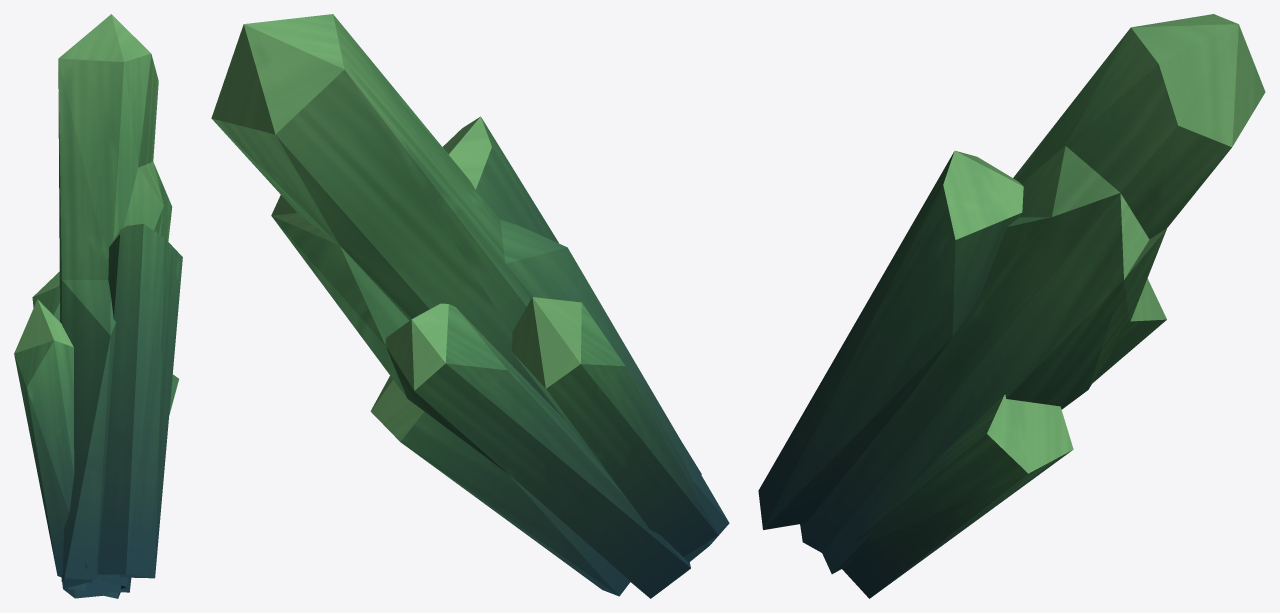
File: Crystal4.fbx
3 views of the same model, side by side, from view 1: azimuth 30°, elevation 25°; view 2: azimuth 150°, elevation 25°; view 3: azimuth 270°, elevation 25° (orthographic). The views are drawn at different scales.
Visible parts, largest first — view 1: Crystal4; view 2: Crystal4; view 3: Crystal4.
Boxes of the visible parts, box(x1,y1,x2,y2) form: Crystal4: box(14, 14, 182, 598); Crystal4: box(211, 14, 729, 598); Crystal4: box(758, 14, 1265, 598).
Bounding box in the file's own units: 92.16 × 185 × 129.
Materials: 1 (1 with a texture image).
